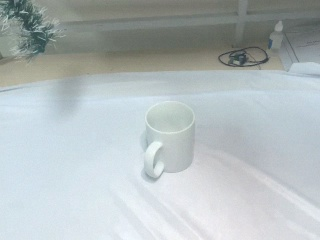bottle: (267, 21, 284, 53)
cup: (141, 100, 197, 180)
